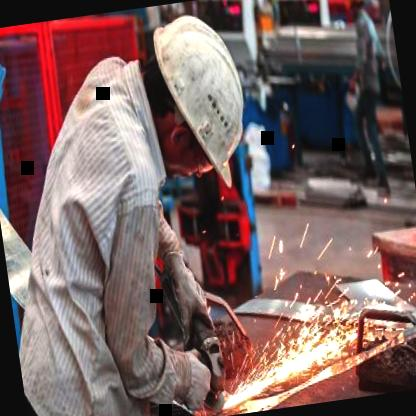helmet: (133, 6, 264, 196)
